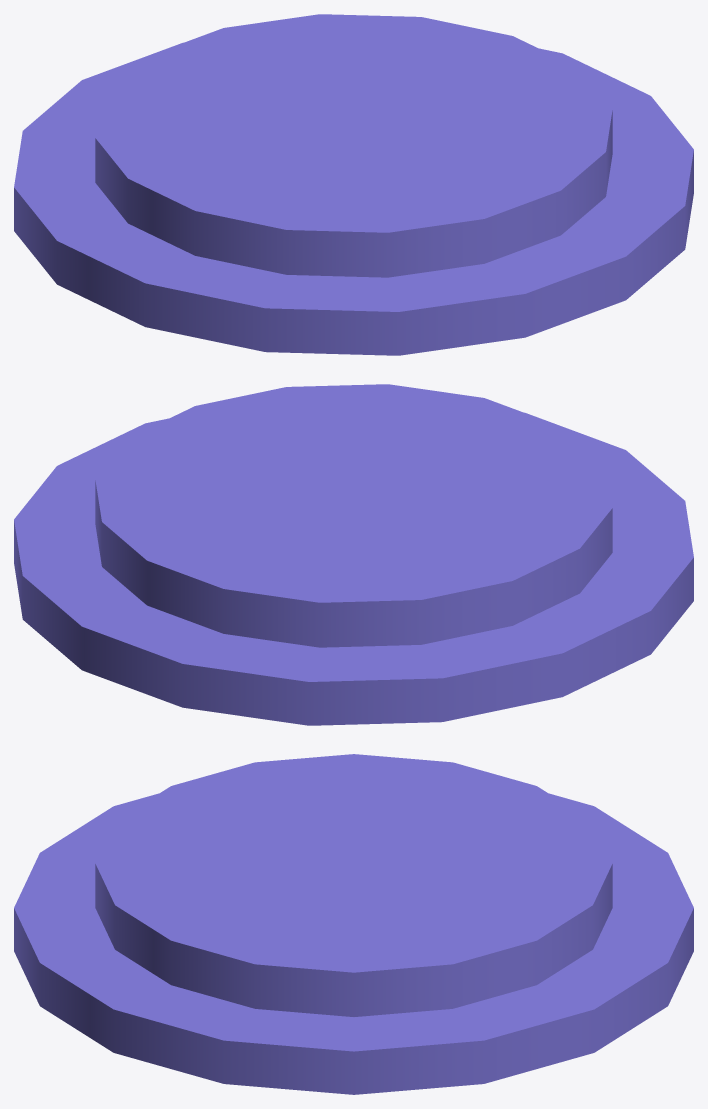
Rendered from point_start.fbx.
The picture shows the model from 3 angles, top to bottom: view 1: azimuth 30°, elevation 25°; view 2: azimuth 150°, elevation 25°; view 3: azimuth 270°, elevation 25°; orthographic projection.
Parts seen in each view (by area): view 1: Circle.050; view 2: Circle.050; view 3: Circle.050.
Boxes of the visible parts, x1,y1,x2,y2 form: Circle.050: (14, 14, 693, 355); Circle.050: (14, 384, 693, 725); Circle.050: (14, 754, 693, 1094).
Bounding box in the file's own units: 9.56 × 1.36 × 9.56.
